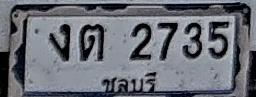2: (130, 22, 152, 60)
3: (182, 22, 202, 59)
5: (208, 20, 229, 58)
7: (157, 22, 178, 60)
A07: (48, 23, 70, 61)
A21: (80, 23, 106, 61)
CBI: (101, 69, 161, 94)
